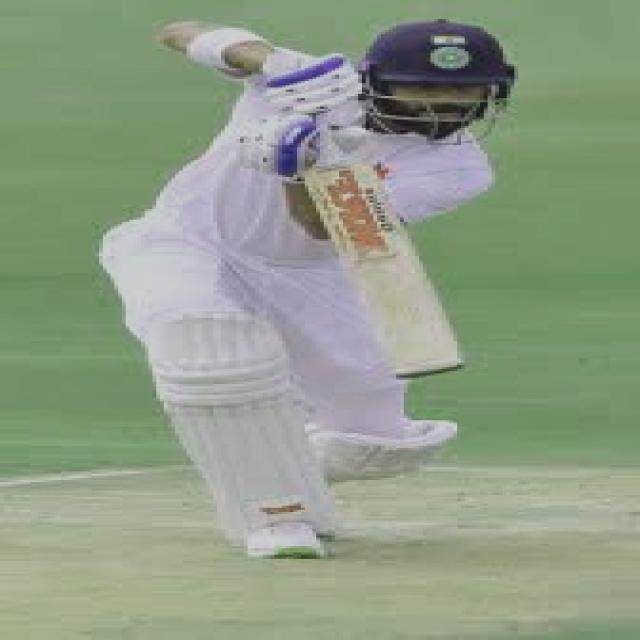toe: (383, 318, 462, 387)
